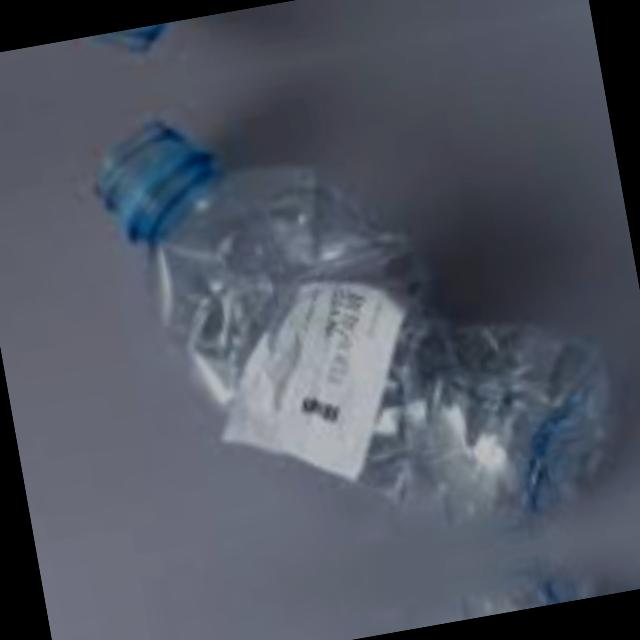Plastic: (51, 26, 640, 606), (141, 535, 640, 640), (38, 0, 573, 86)
